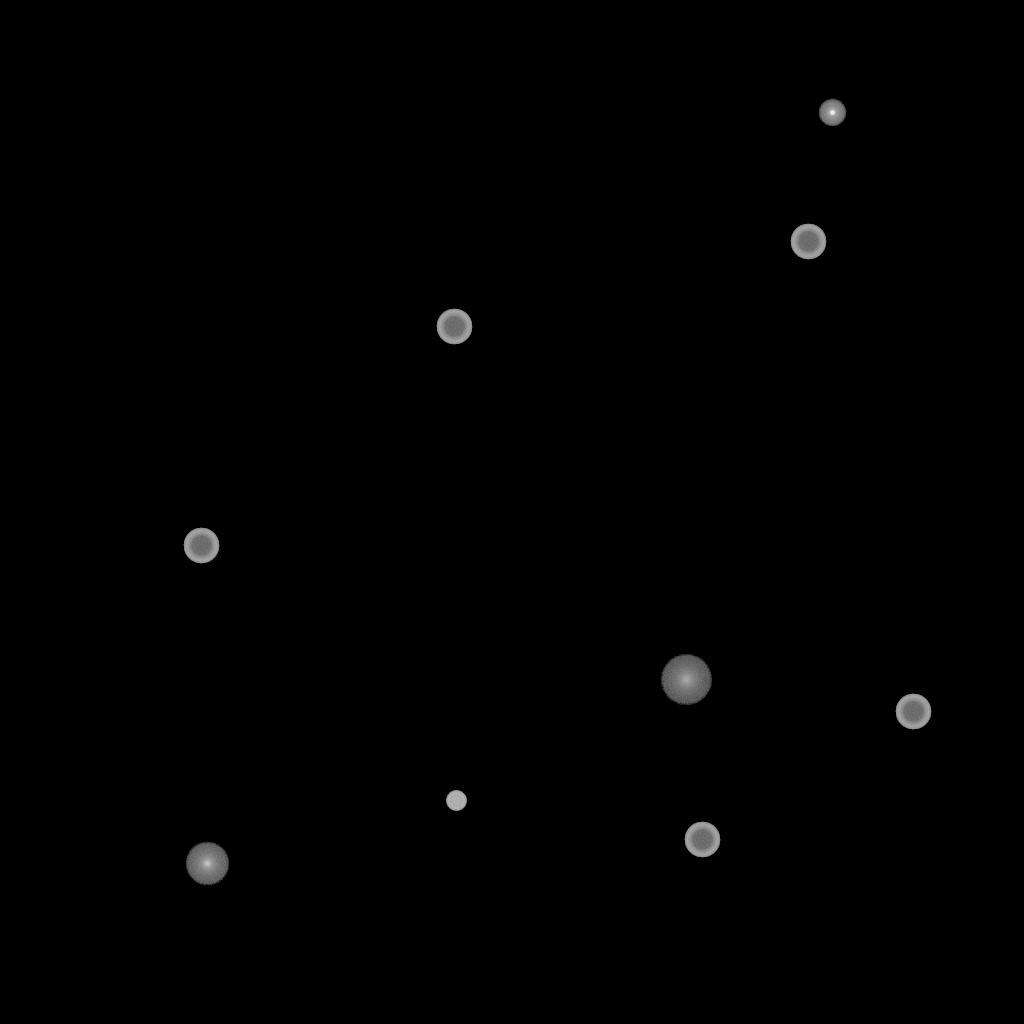depth:-10: (818, 99, 846, 127)
depth:-40: (446, 791, 466, 811)
depth:-60: (436, 309, 472, 345), (684, 822, 720, 858), (895, 694, 931, 730), (183, 528, 219, 564), (790, 224, 826, 260)
depth:10: (185, 842, 229, 886)
depth:20: (660, 655, 712, 705)
